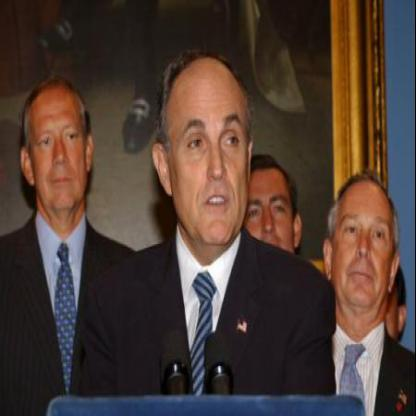face: (168, 59, 257, 249), (333, 177, 397, 316), (31, 82, 90, 218), (239, 161, 297, 278)
